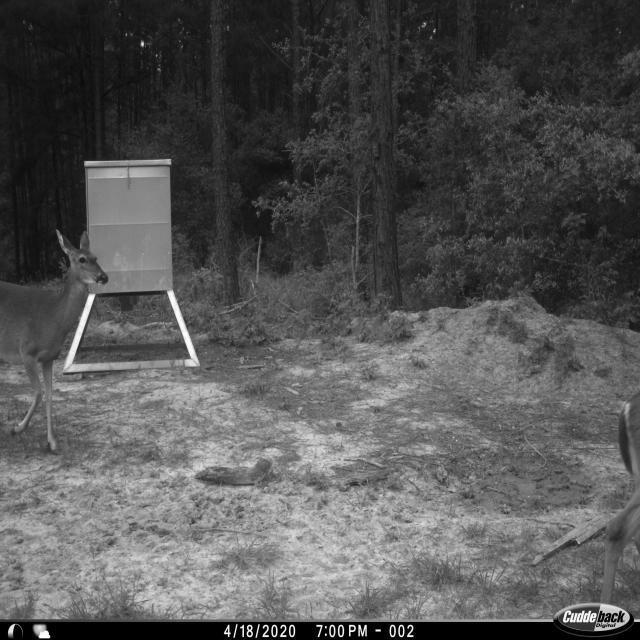Deer: (2, 218, 110, 458), (603, 390, 639, 600)
